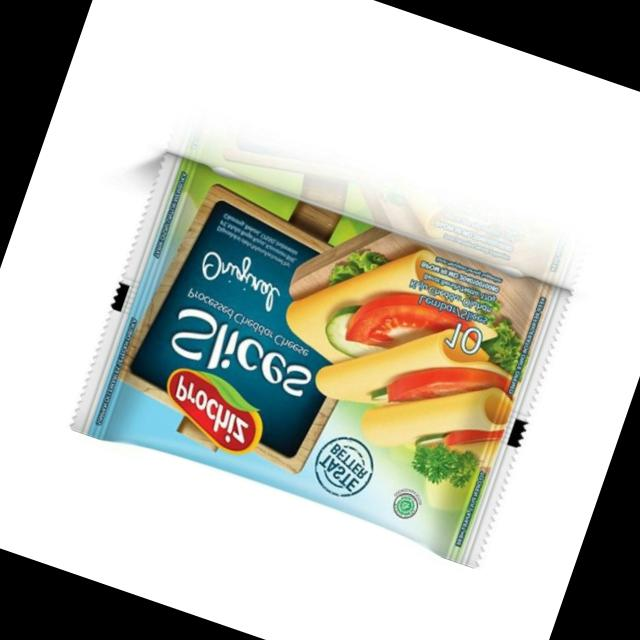KemasanPlastik: (44, 132, 588, 590)
